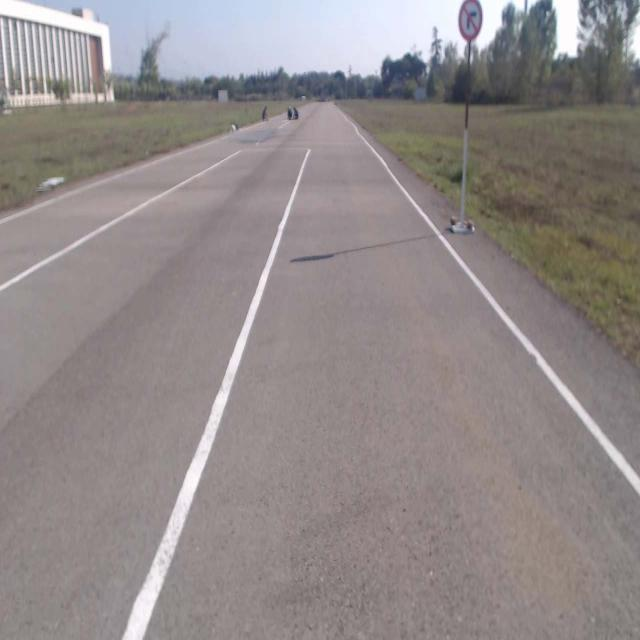sagadonulmez: (459, 1, 483, 39)
